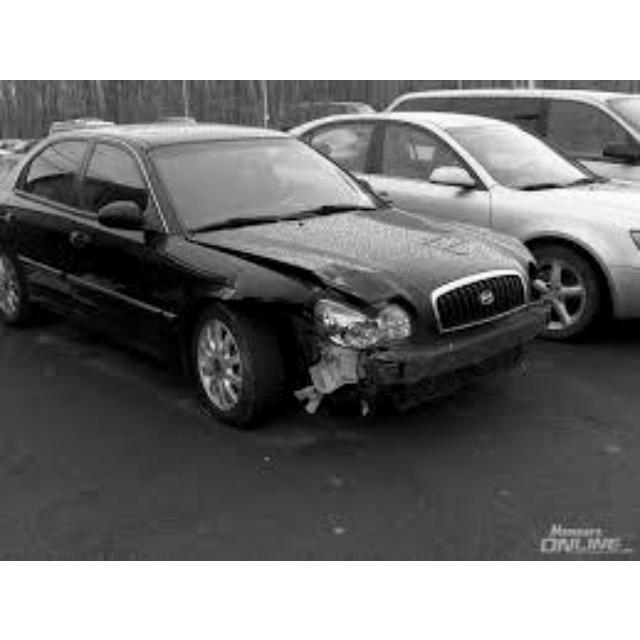bonnet-dent: (230, 208, 462, 311)
front-bumper-dent: (275, 319, 452, 410)
